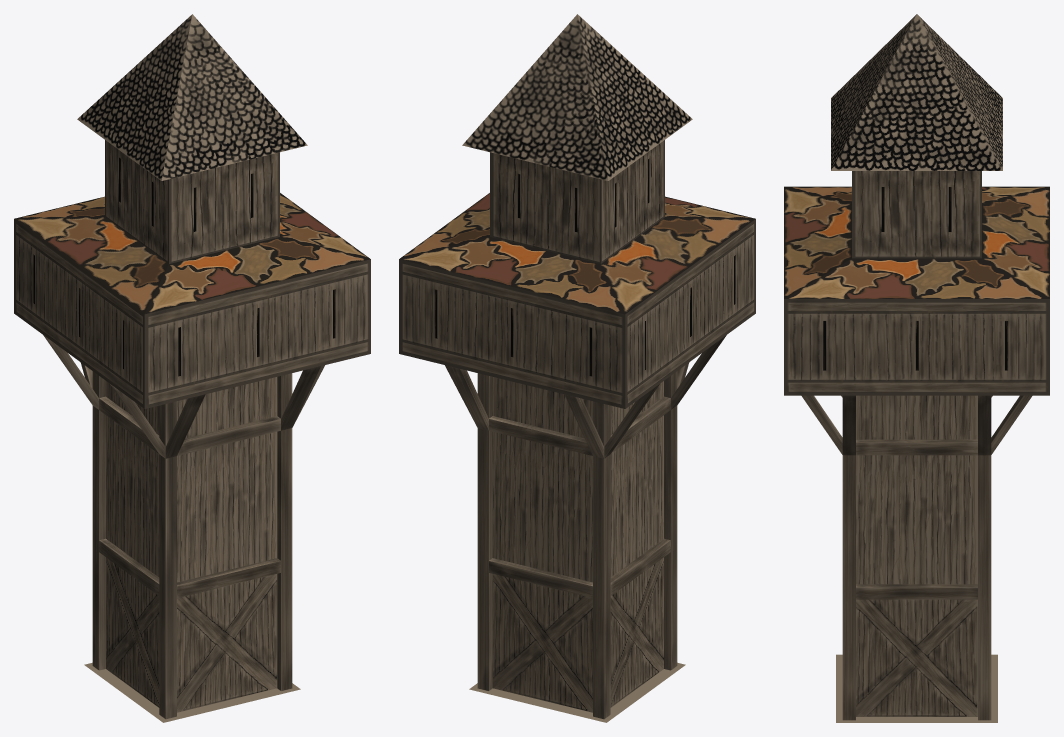
File: tour_archer_age1.obj
The picture shows the model from 3 angles, left to right: view 1: azimuth 30°, elevation 25°; view 2: azimuth 150°, elevation 25°; view 3: azimuth 270°, elevation 25°; orthographic projection.
Parts seen in each view (by area): view 1: Plane_Plane.001; view 2: Plane_Plane.001; view 3: Plane_Plane.001.
Part boxes in pixels (x1,y1,x2,y2): Plane_Plane.001: [14, 14, 370, 722]; Plane_Plane.001: [399, 14, 755, 722]; Plane_Plane.001: [784, 14, 1049, 722].
Bounding box in the file's own units: 2 × 5.6 × 2.
